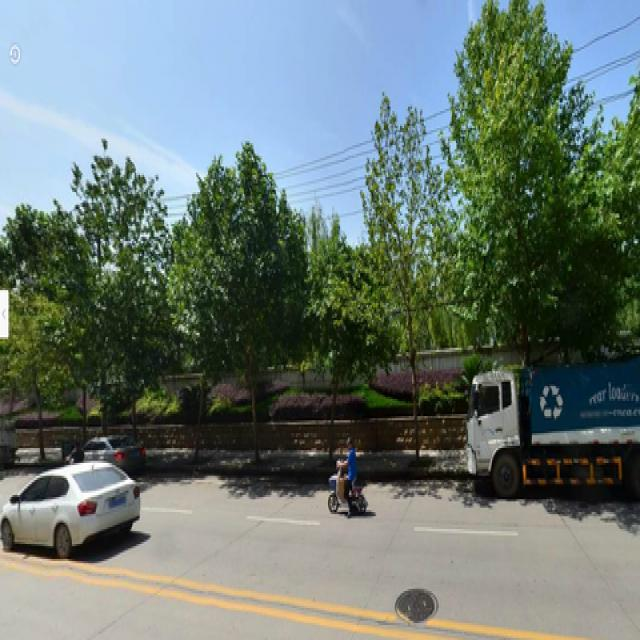meta: (208, 160, 307, 476), (93, 173, 163, 433)
